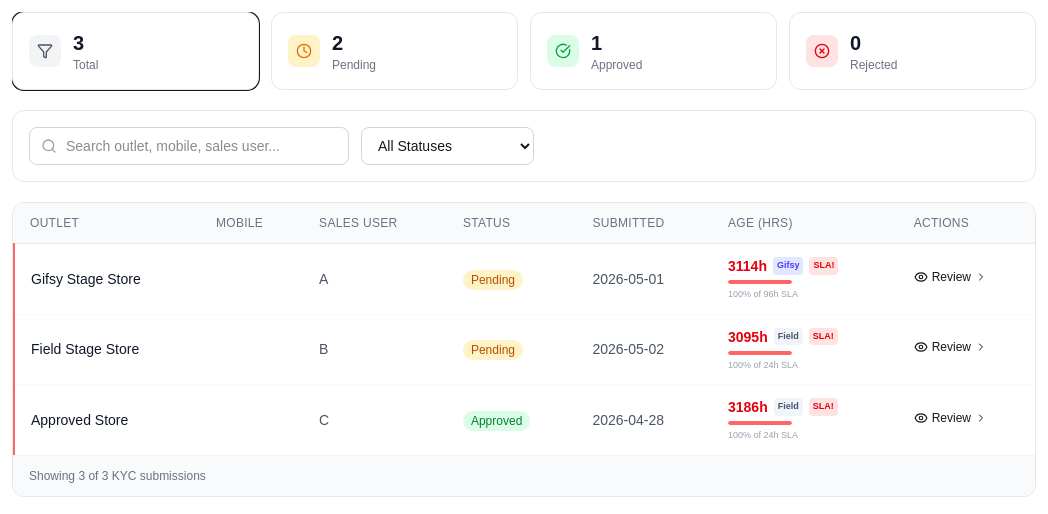
KYC — "Pending — Gifsy" filter (awaiting Gifsy review) › shows the Gifsy-pending option with the live count and filters to only PENDING_GIFSY rows
Expected: the text "Gifsy Stage Store" is shown, [31,271,141,287]
Select "Pending — Gifsy (1)" in the dropdown showing "All Statuses" at {"x": 448, "y": 146}, box [361,127,534,165]
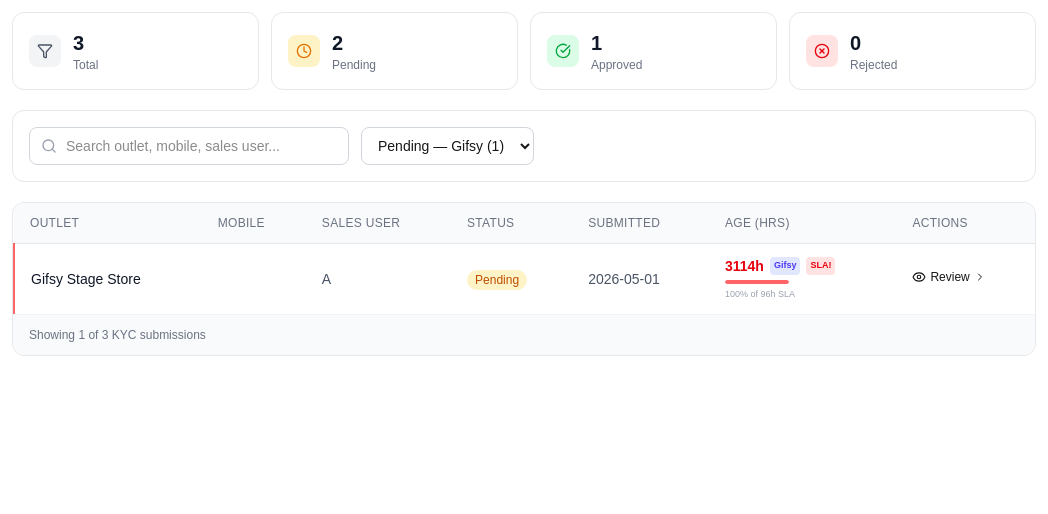
Expected: the text "Field Stage Store" is gone
Expected: the text "Approved Store" is gone
Expected: the text "Showing 1 of 3 KYC submissions" is shown, [29,328,206,342]
